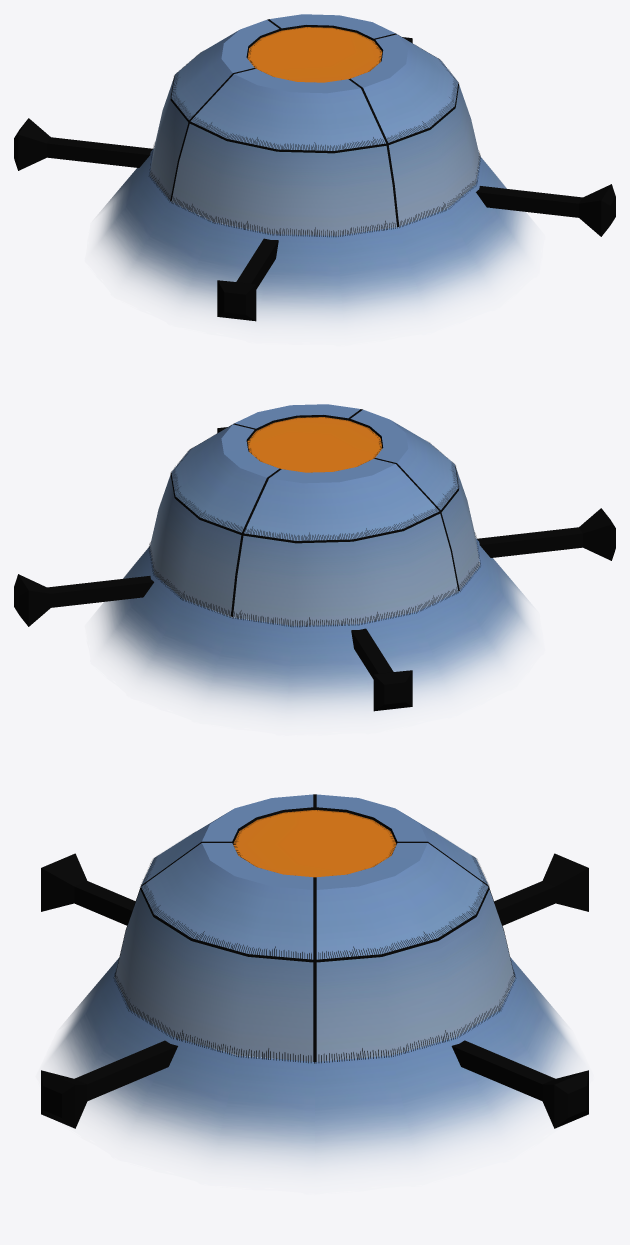
File: pm-sci-fi-drone.glb
The picture shows the model from 3 angles, top to bottom: view 1: azimuth 30°, elevation 25°; view 2: azimuth 150°, elevation 25°; view 3: azimuth 270°, elevation 25°; orthographic projection. The views are drawn at different scales.
Visible parts, largest first — view 1: SciFi_Drone; view 2: SciFi_Drone; view 3: SciFi_Drone.
Boxes of the visible parts, left/top/right/bottom form: SciFi_Drone: left=14, top=14, right=615, bottom=323; SciFi_Drone: left=14, top=404, right=615, bottom=713; SciFi_Drone: left=41, top=794, right=588, bottom=1167.
Size of the model in its own units: 1.77 by 0.846 by 1.77.
Materials: 2 (2 with a texture image).
